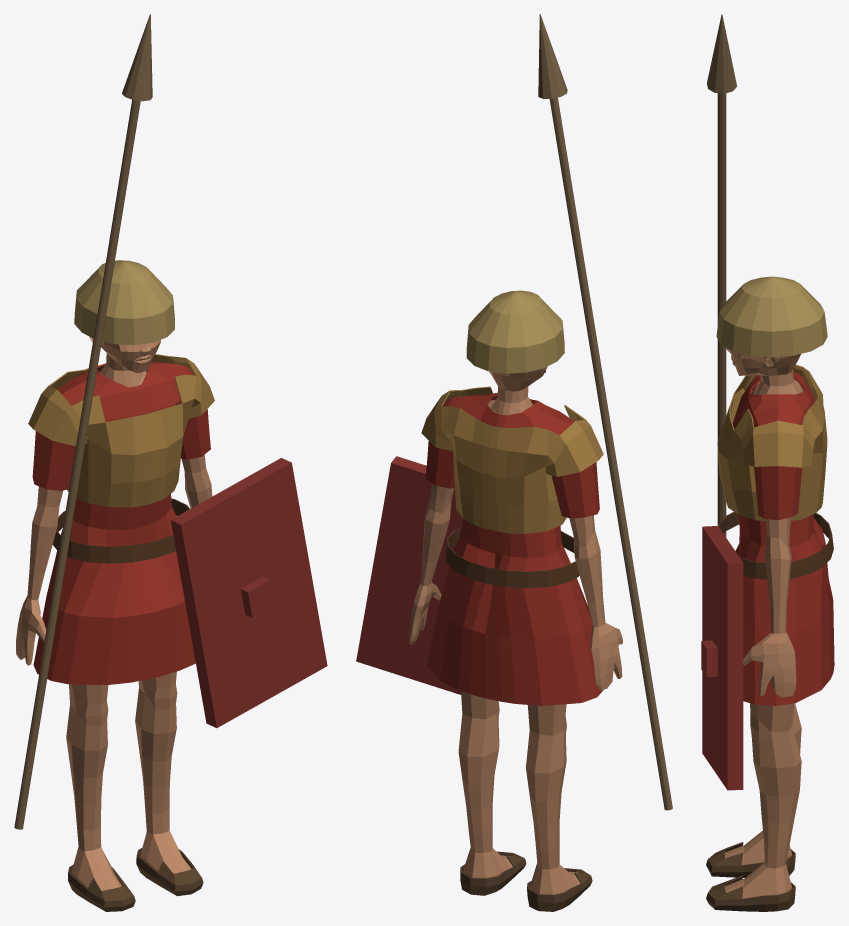
The model's file is guard.glb.
3 renders of one model, left to right at view 1: azimuth 30°, elevation 25°; view 2: azimuth 150°, elevation 25°; view 3: azimuth 270°, elevation 25°, orthographic. The views are drawn at different scales.
Parts seen in each view (by area): view 1: guard_GuardShield, guard_RomanTunic, guard_CharacterBase, guard_BronzeArmor, guard_GuardSpear, guard_RomanHelmet, guard_RomanSandals, guard_LeatherBelt; view 2: guard_RomanTunic, guard_CharacterBase, guard_BronzeArmor, guard_GuardShield, guard_GuardSpear, guard_RomanHelmet, guard_LeatherBelt, guard_RomanSandals; view 3: guard_CharacterBase, guard_RomanTunic, guard_GuardShield, guard_BronzeArmor, guard_RomanHelmet, guard_GuardSpear, guard_RomanSandals, guard_LeatherBelt.
Boxes of the visible parts, x1,y1,x2,y2 form: guard_GuardShield: (170, 458, 327, 727); guard_RomanTunic: (32, 361, 210, 684); guard_CharacterBase: (16, 336, 212, 890); guard_BronzeArmor: (28, 354, 214, 507); guard_GuardSpear: (14, 14, 152, 829); guard_RomanHelmet: (74, 260, 174, 345); guard_RomanSandals: (68, 848, 203, 911); guard_LeatherBelt: (52, 498, 189, 563); guard_RomanTunic: (425, 393, 603, 705); guard_CharacterBase: (409, 366, 622, 894); guard_BronzeArmor: (421, 386, 603, 533); guard_GuardShield: (356, 456, 462, 694); guard_GuardSpear: (538, 14, 672, 810); guard_RomanHelmet: (466, 290, 564, 373); guard_LeatherBelt: (445, 527, 579, 588); guard_RomanSandals: (460, 851, 592, 911); guard_CharacterBase: (724, 348, 803, 898); guard_RomanTunic: (732, 371, 834, 705); guard_GuardShield: (701, 526, 743, 790); guard_BronzeArmor: (717, 364, 827, 520); guard_RomanHelmet: (716, 276, 827, 357); guard_GuardSpear: (707, 14, 736, 537); guard_RomanSandals: (706, 842, 795, 911); guard_LeatherBelt: (718, 512, 833, 579).
Size of the model in its own units: 0.9965 by 2.67 by 0.3686.
